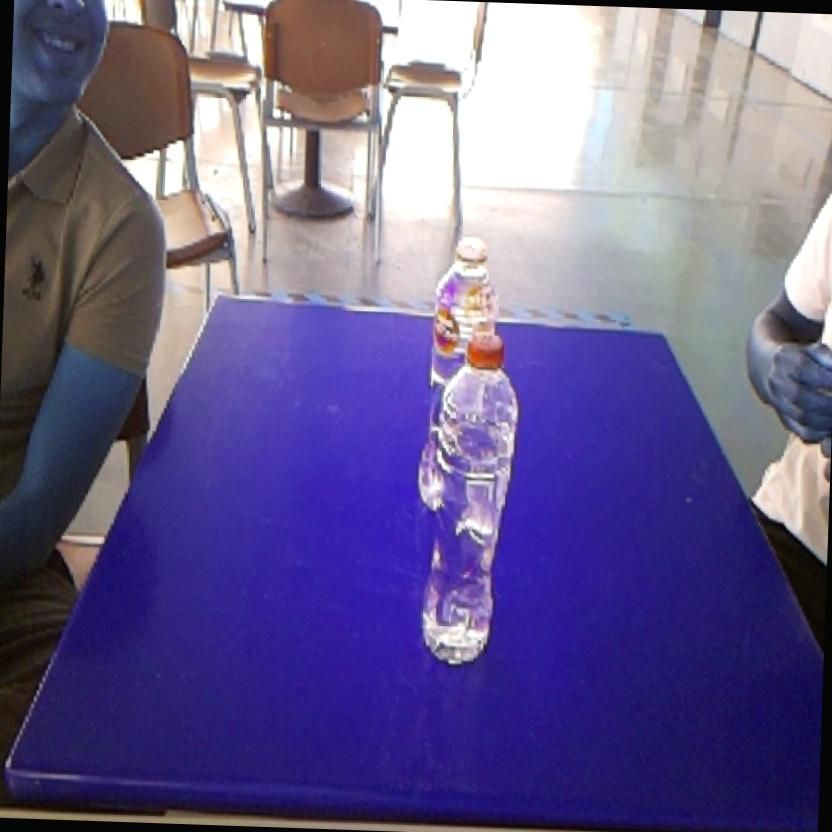no_cap: (425, 222, 514, 323)
no_label: (410, 322, 525, 678)
